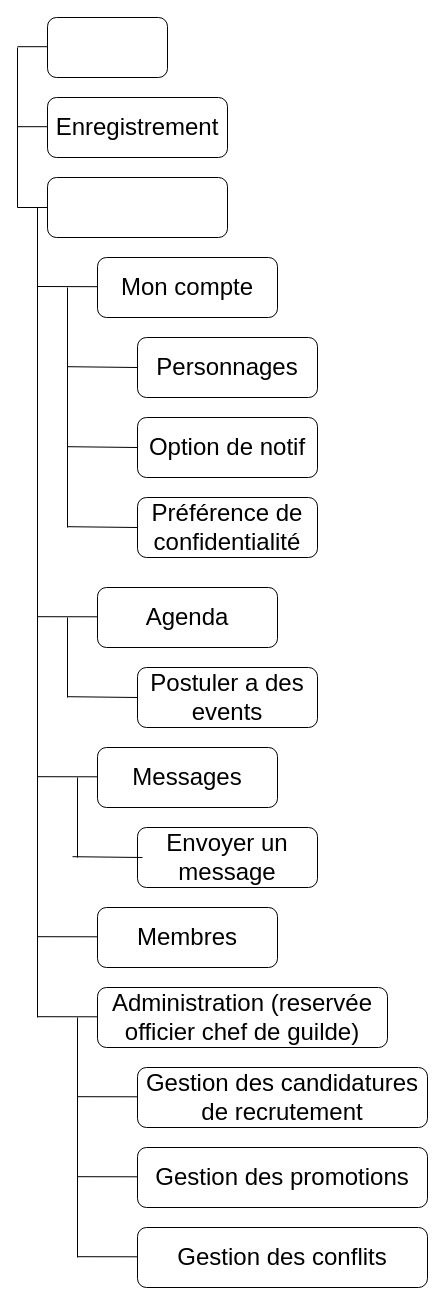
Some shapes in this 445 by 1305 pixel diagram are drawn without their labels. The box of each missing label's shape, as (x1, y1, x2, y2) in pixels:
Accueil: (46, 16, 168, 78)
Connection: (46, 176, 228, 238)
